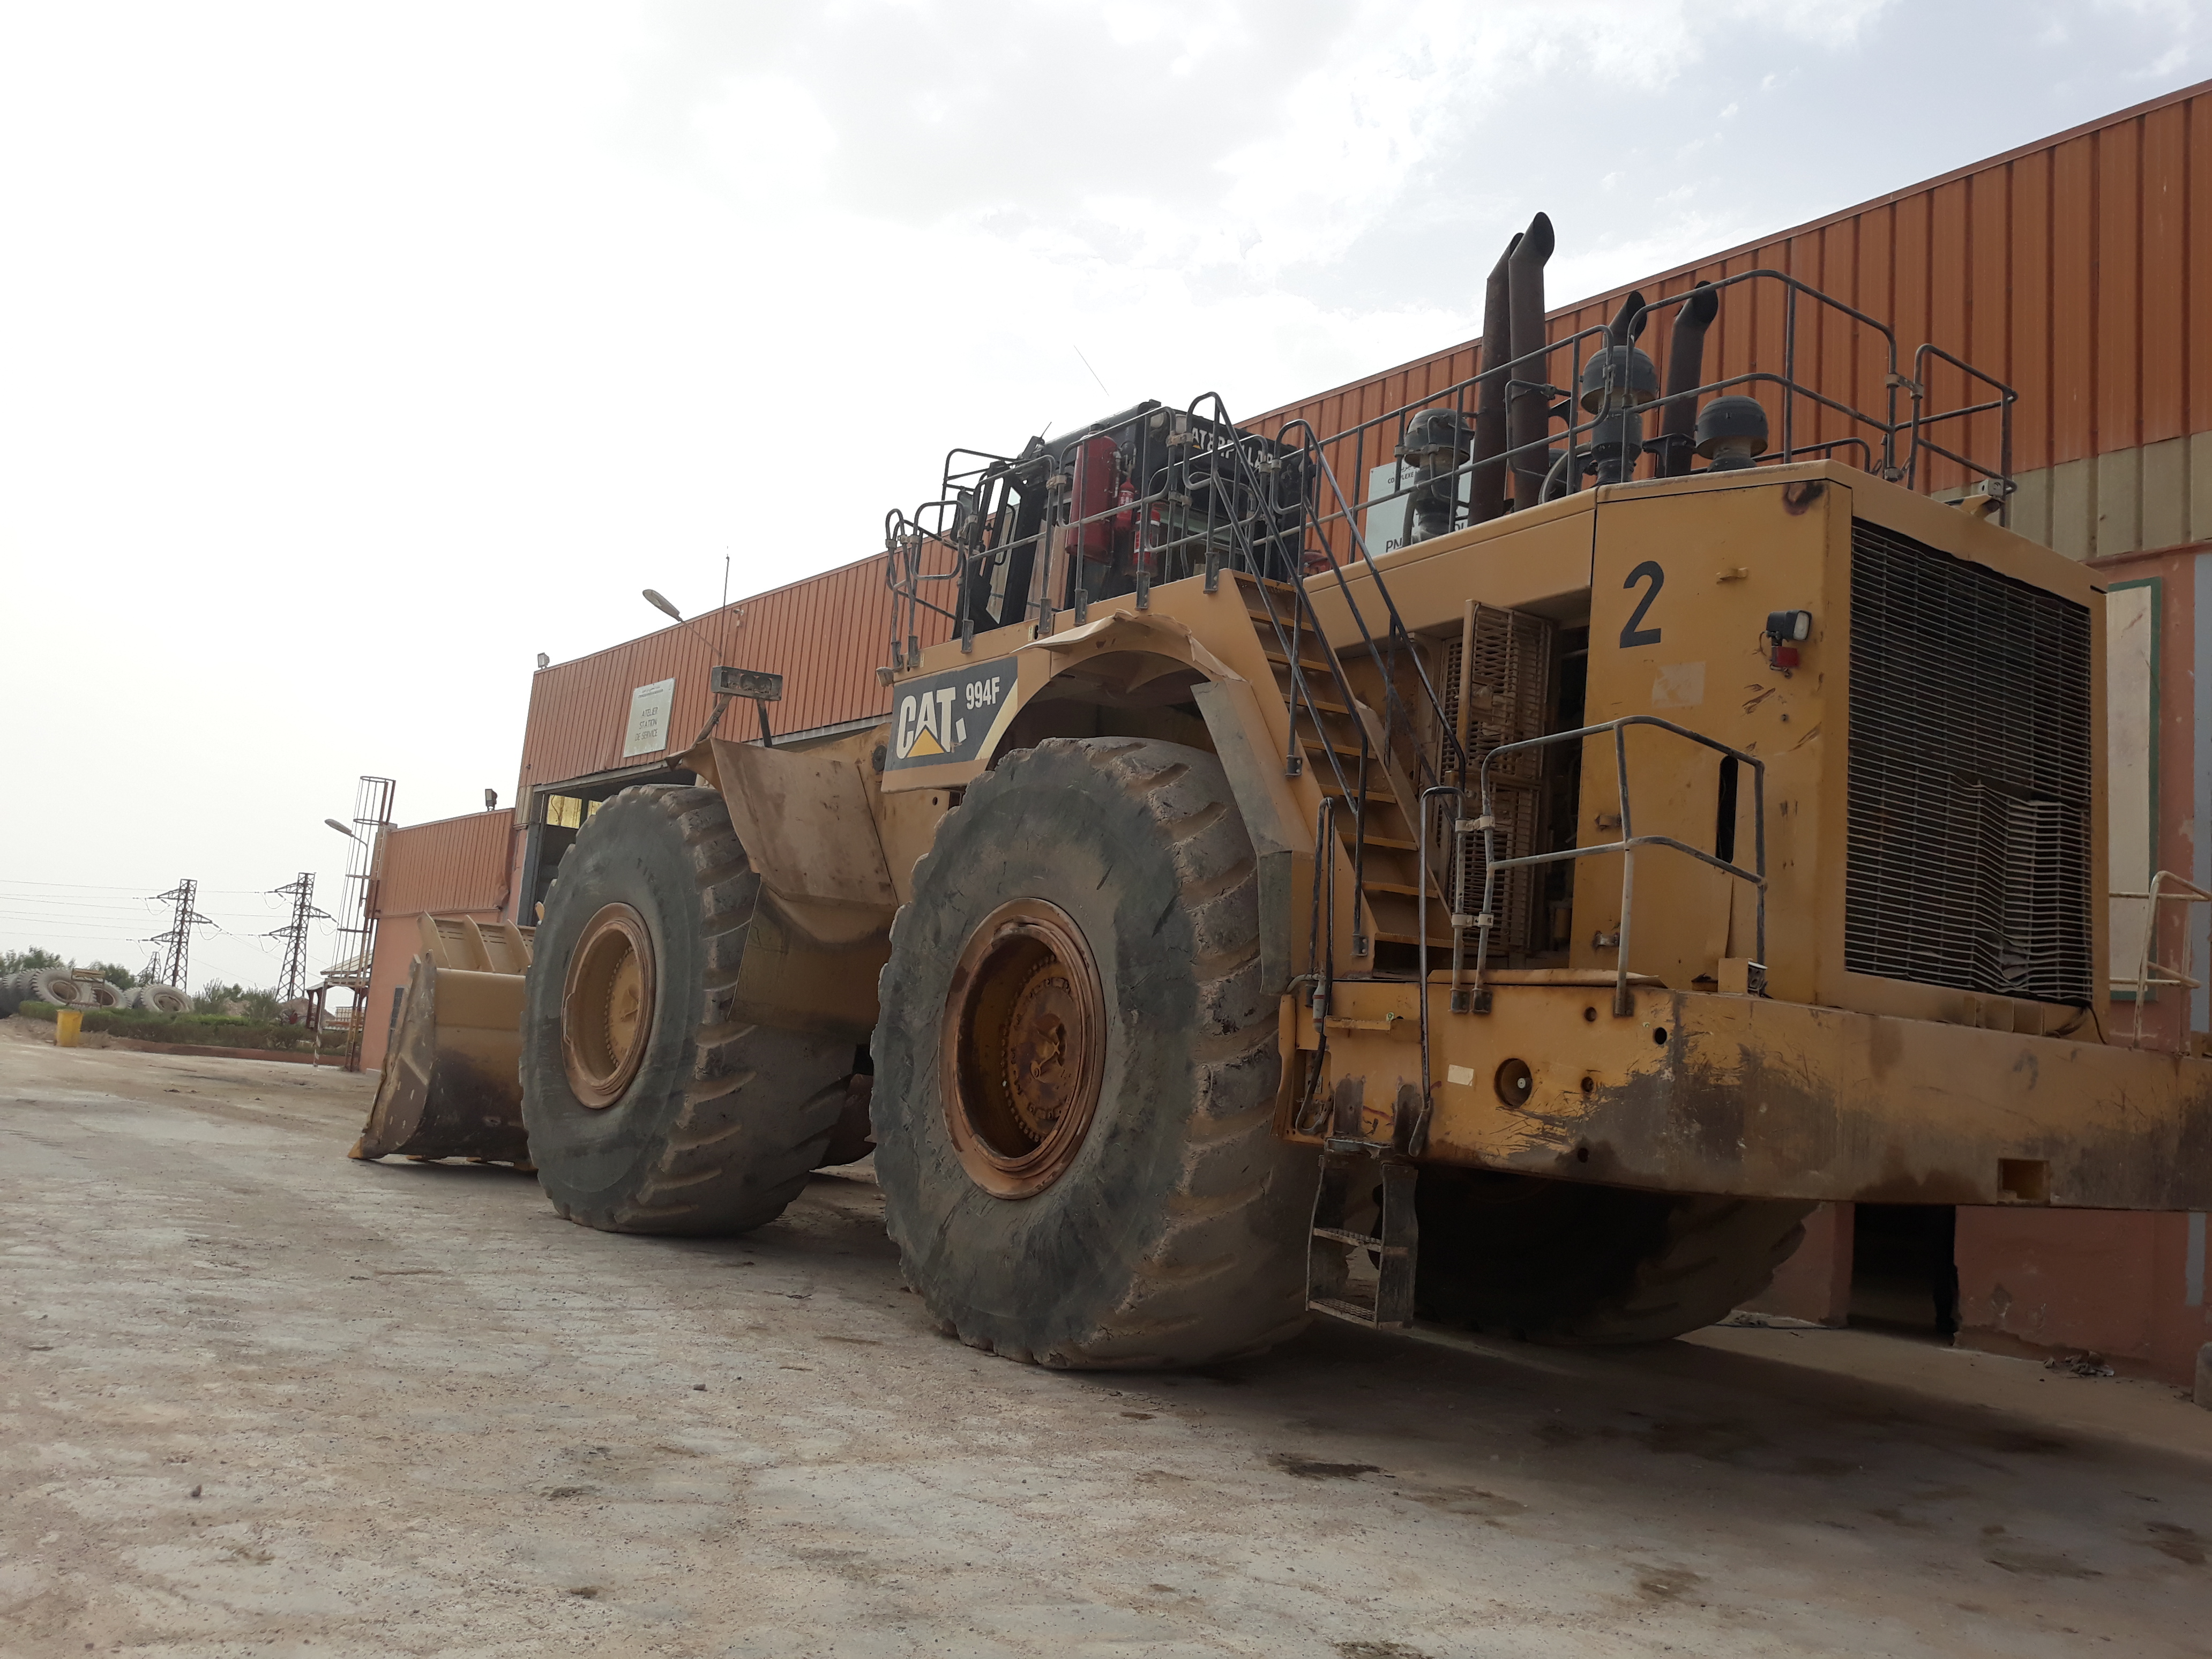chargeuse: (369, 308, 2168, 1391)
